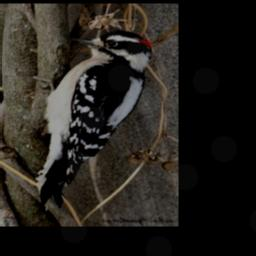Woodpecker: (34, 29, 152, 208)
